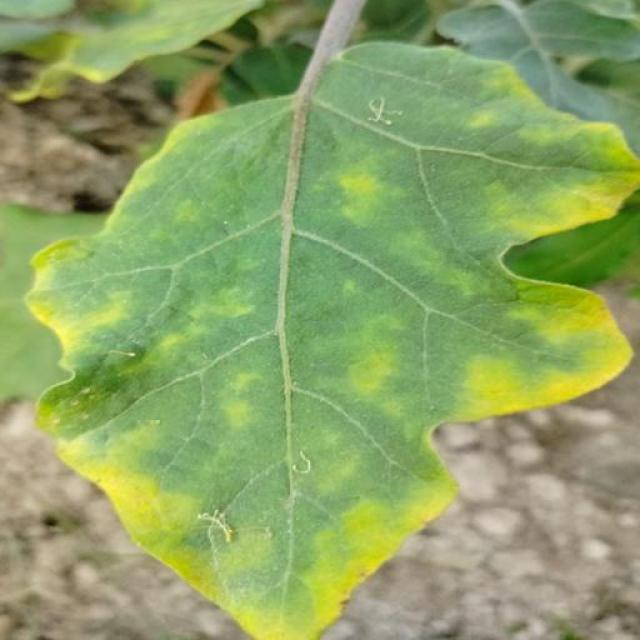leaf_spot: (397, 363, 640, 640), (478, 196, 640, 491), (454, 58, 640, 274), (35, 363, 208, 580), (18, 212, 152, 434), (153, 521, 352, 640), (139, 270, 275, 439), (106, 96, 231, 229), (324, 479, 468, 578), (78, 0, 283, 58), (339, 304, 437, 424), (20, 2, 105, 114), (324, 163, 386, 231)
